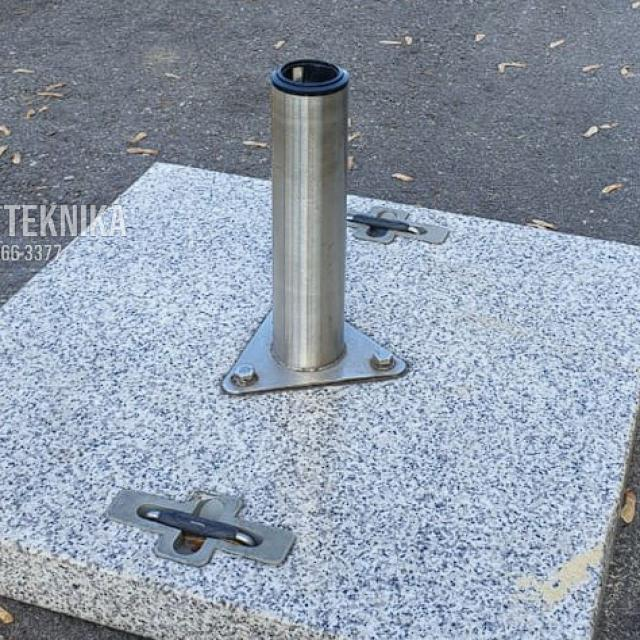Bollard: (266, 52, 353, 371)
